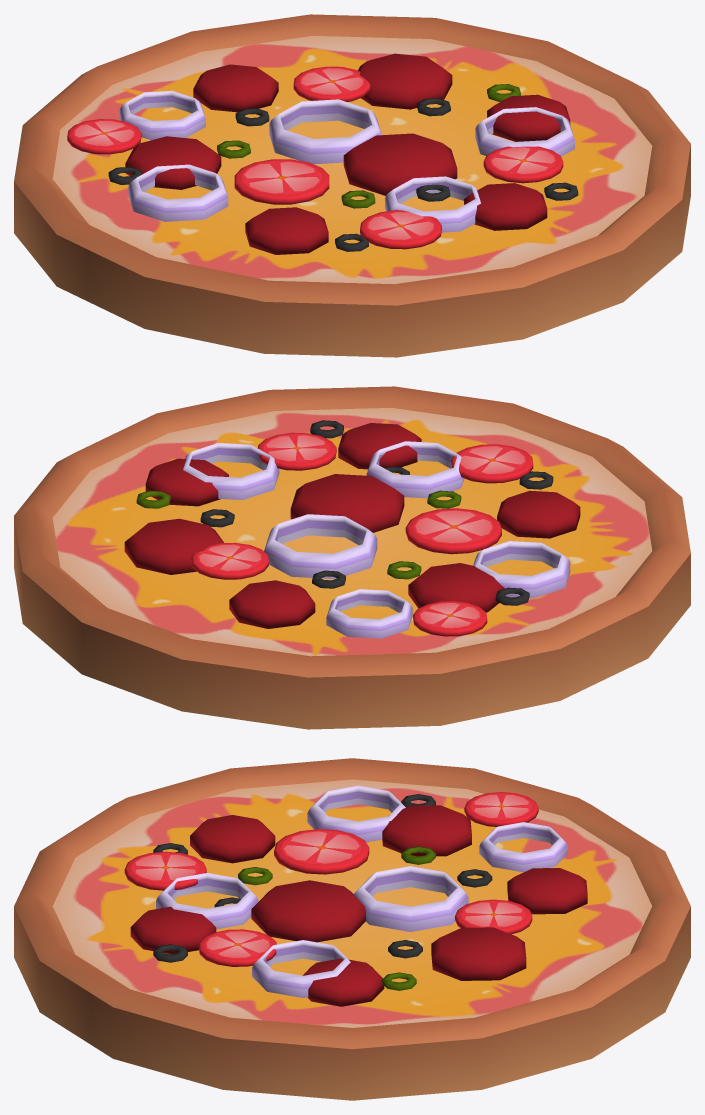
Rendered from Pizza_V1_00.fbx.
3 views of the same model, one above another, from view 1: azimuth 30°, elevation 25°; view 2: azimuth 150°, elevation 25°; view 3: azimuth 270°, elevation 25° (orthographic).
Visible parts, largest first — view 1: Pizza_V1_00; view 2: Pizza_V1_00; view 3: Pizza_V1_00.
Boxes of the visible parts, x1,y1,x2,y2 form: Pizza_V1_00: (14,14,690,357); Pizza_V1_00: (14,386,690,729); Pizza_V1_00: (14,758,690,1100).
Bounding box in the file's own units: 103 × 12.18 × 103.
